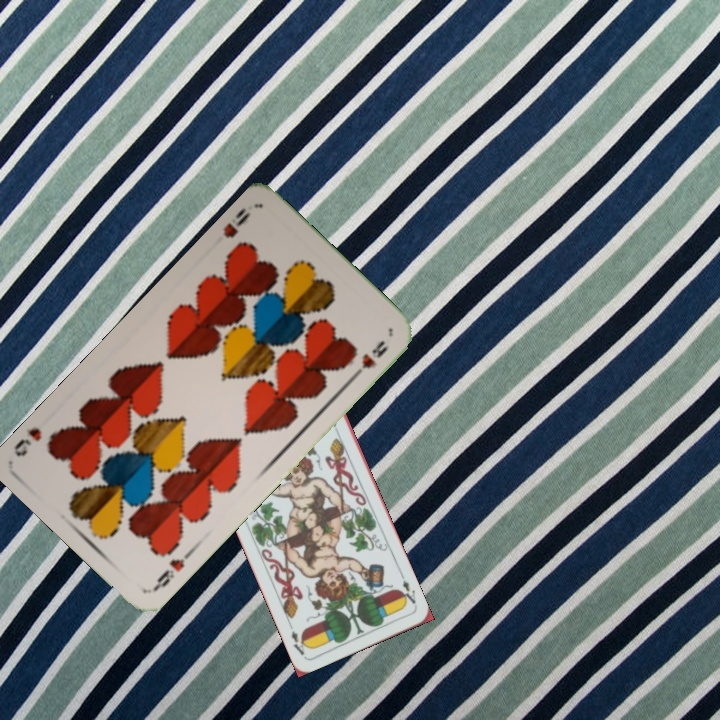EA: (395, 576, 419, 609)
H9: (150, 546, 195, 593), (219, 203, 254, 241)
